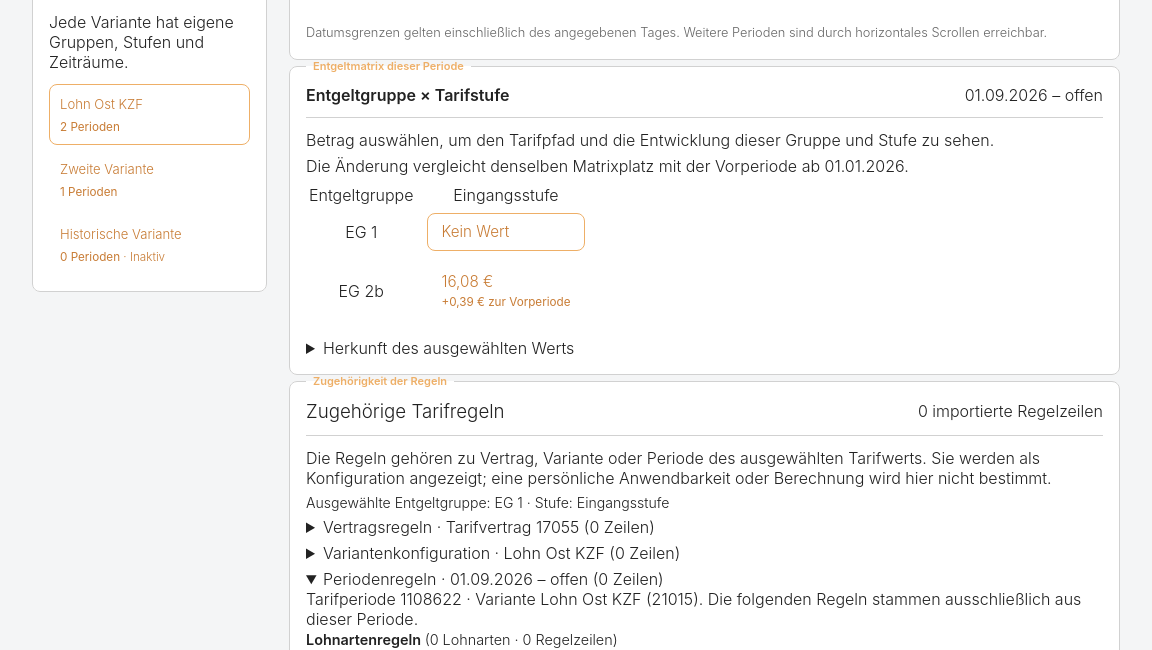
Tarifbeziehungen in der Übersicht › erklärt fehlende Matrixwerte und behält die übrigen Zellen auswählbar
(page scrolled)
Click the button "16,08 € +0,39 € zur Vorperiode". click: (506, 291)
box: [426,263,585,318]
(page scrolled)
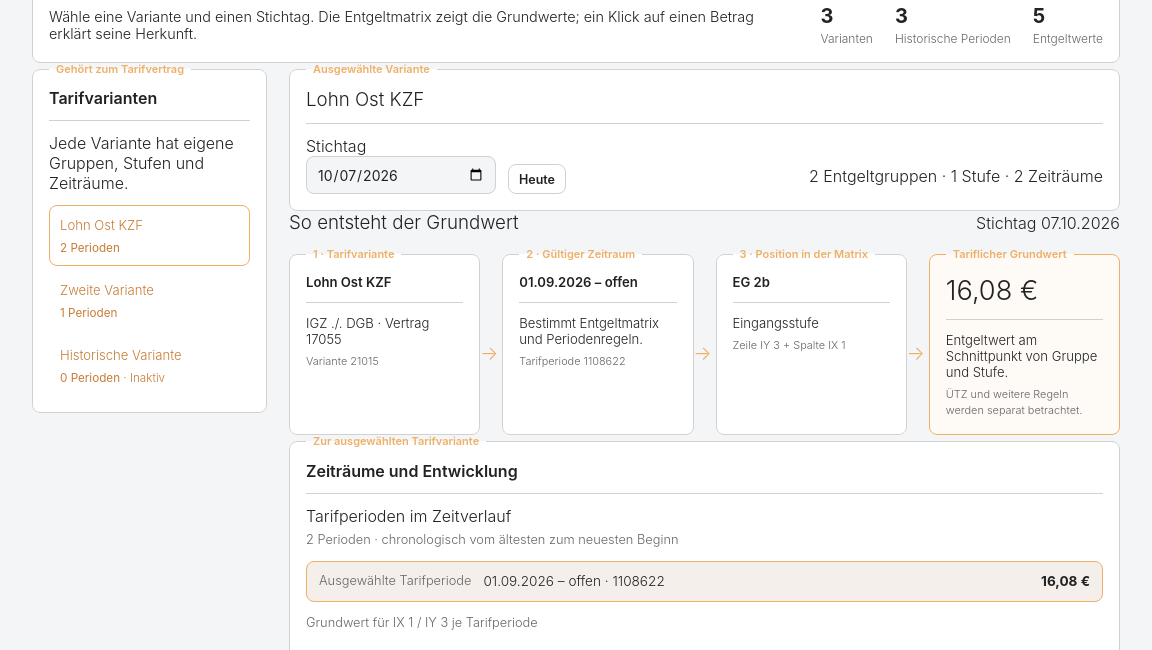
Check: the text with class "tariff-value" reads "16,08 €", box [946,274,1038,307]
